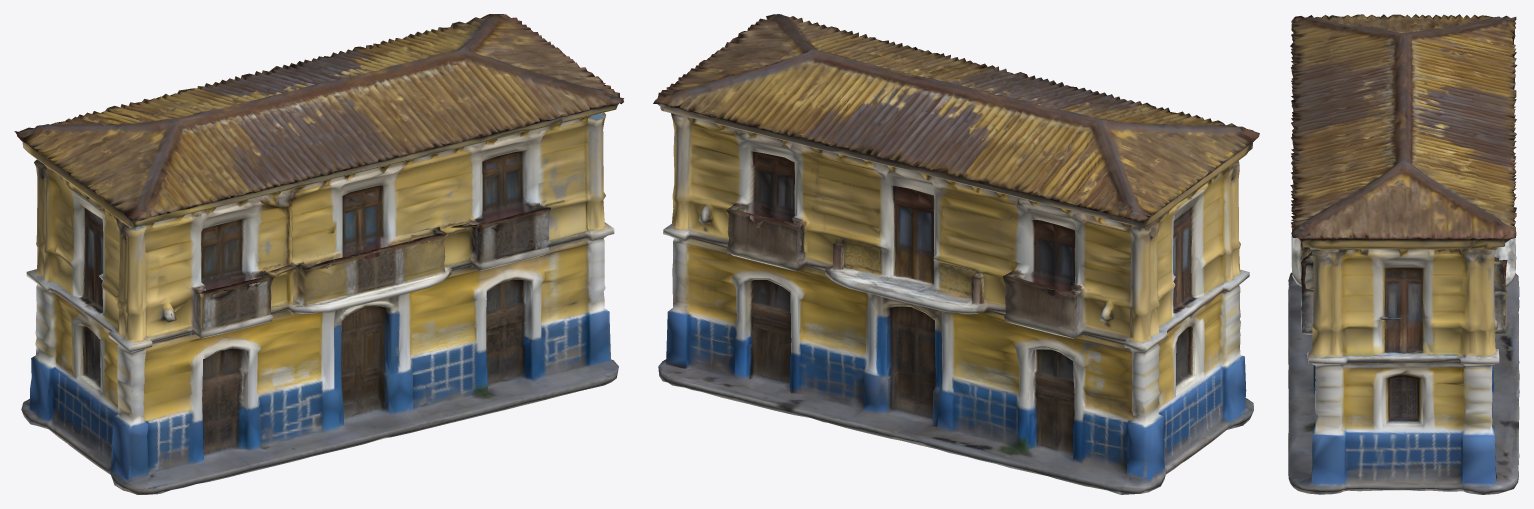
File: Casa1.fbx
The picture shows the model from 3 angles, left to right: view 1: azimuth 30°, elevation 25°; view 2: azimuth 150°, elevation 25°; view 3: azimuth 270°, elevation 25°; orthographic projection. The views are drawn at different scales.
Visible parts, largest first — view 1: input; view 2: input; view 3: input.
Boxes of the visible parts, left/top/right/bottom form: input: left=14, top=14, right=623, bottom=494; input: left=653, top=14, right=1259, bottom=494; input: left=1288, top=14, right=1519, bottom=494.
Bounding box in the file's own units: 192 × 115 × 83.94.
1 material, 1 textured.
